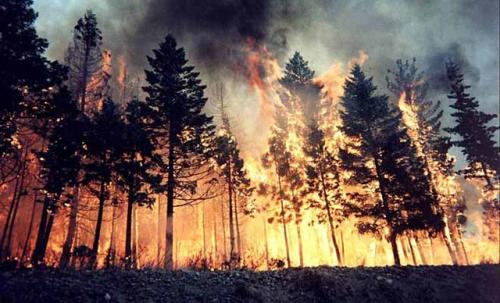fire: (64, 194, 389, 266), (221, 81, 347, 192), (402, 219, 500, 263)
smoke: (298, 3, 497, 76), (46, 2, 238, 71)
